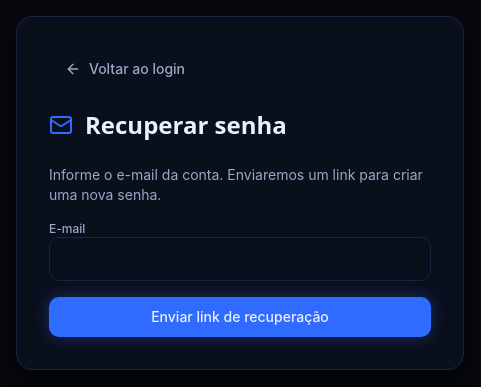
password recovery flow › submits the email and displays a non-enumerating confirmation
The image size is (481, 387).
Type "empresa@example.com" into the field labelled "E-mail" at (240, 259), box [49, 237, 431, 281]
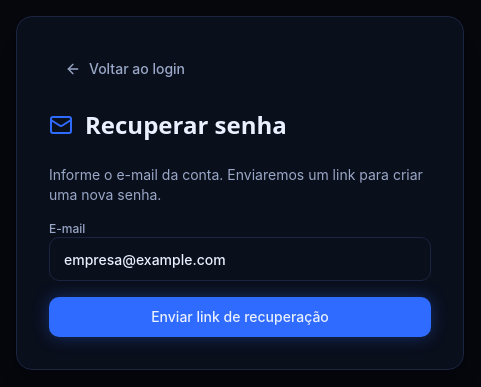
Click the button "Enviar link de recuperação" at (240, 317), box [49, 297, 431, 337]
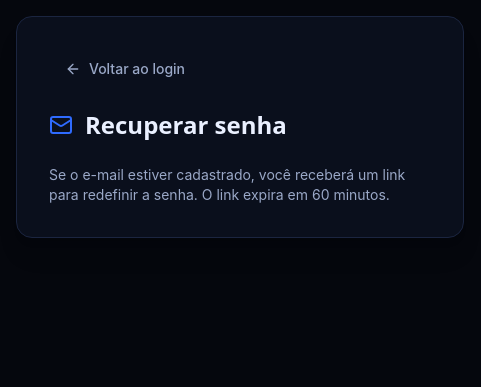
Result: the message shows "Se o e-mail estiver cadastrado" at [49, 166, 405, 203]
